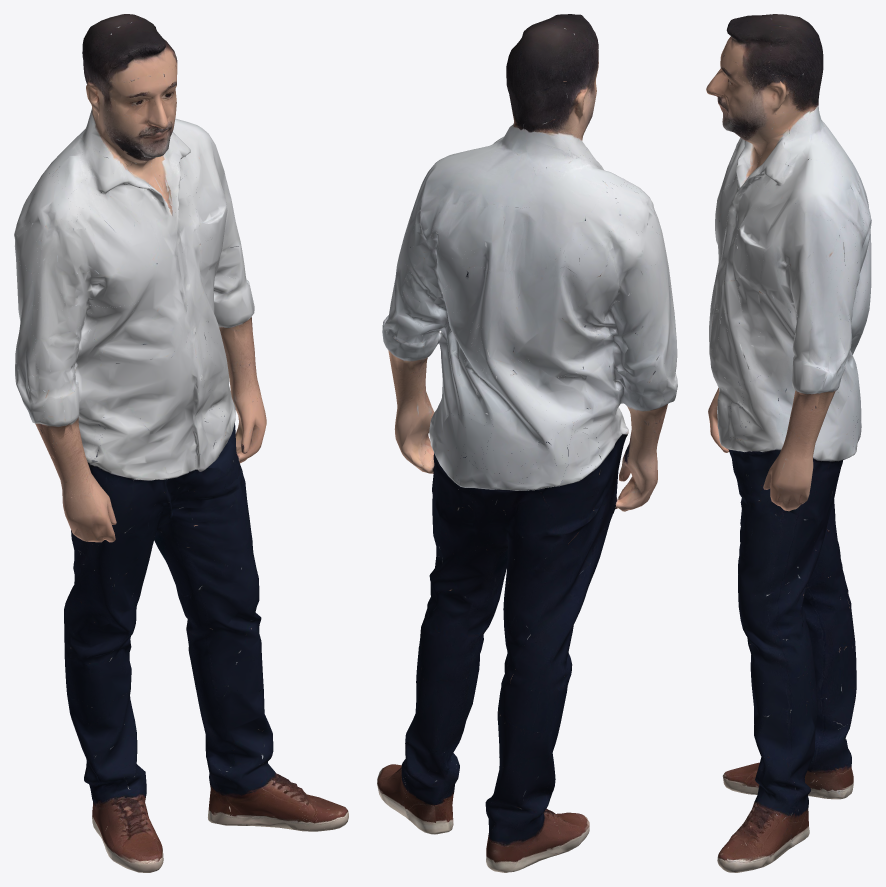
Rendered from office-man.glb.
3 renders of one model, left to right at view 1: azimuth 30°, elevation 25°; view 2: azimuth 150°, elevation 25°; view 3: azimuth 270°, elevation 25°, orthographic. The views are drawn at different scales.
Parts seen in each view (by area): view 1: Object_5, Object_6; view 2: Object_5, Object_6; view 3: Object_5, Object_6.
Part boxes in pixels (x1,y1,x2,y2): Object_5: (14,14,348,845); Object_6: (14,21,348,872); Object_5: (382,14,676,872); Object_6: (377,14,677,872); Object_5: (706,14,871,869); Object_6: (707,15,871,872).
Size of the model in its own units: 0.7401 by 1.9 by 0.3707.
Materials: 1 (1 with a texture image).
